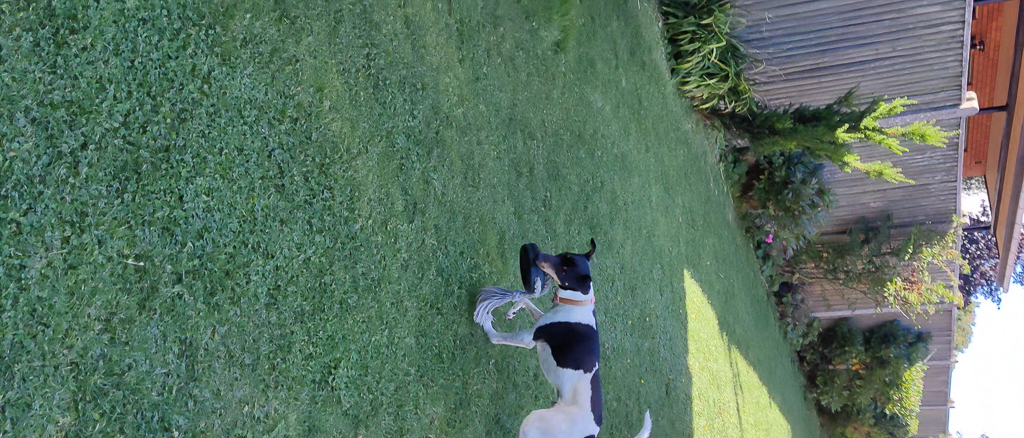Dog: (471, 231, 661, 438)
